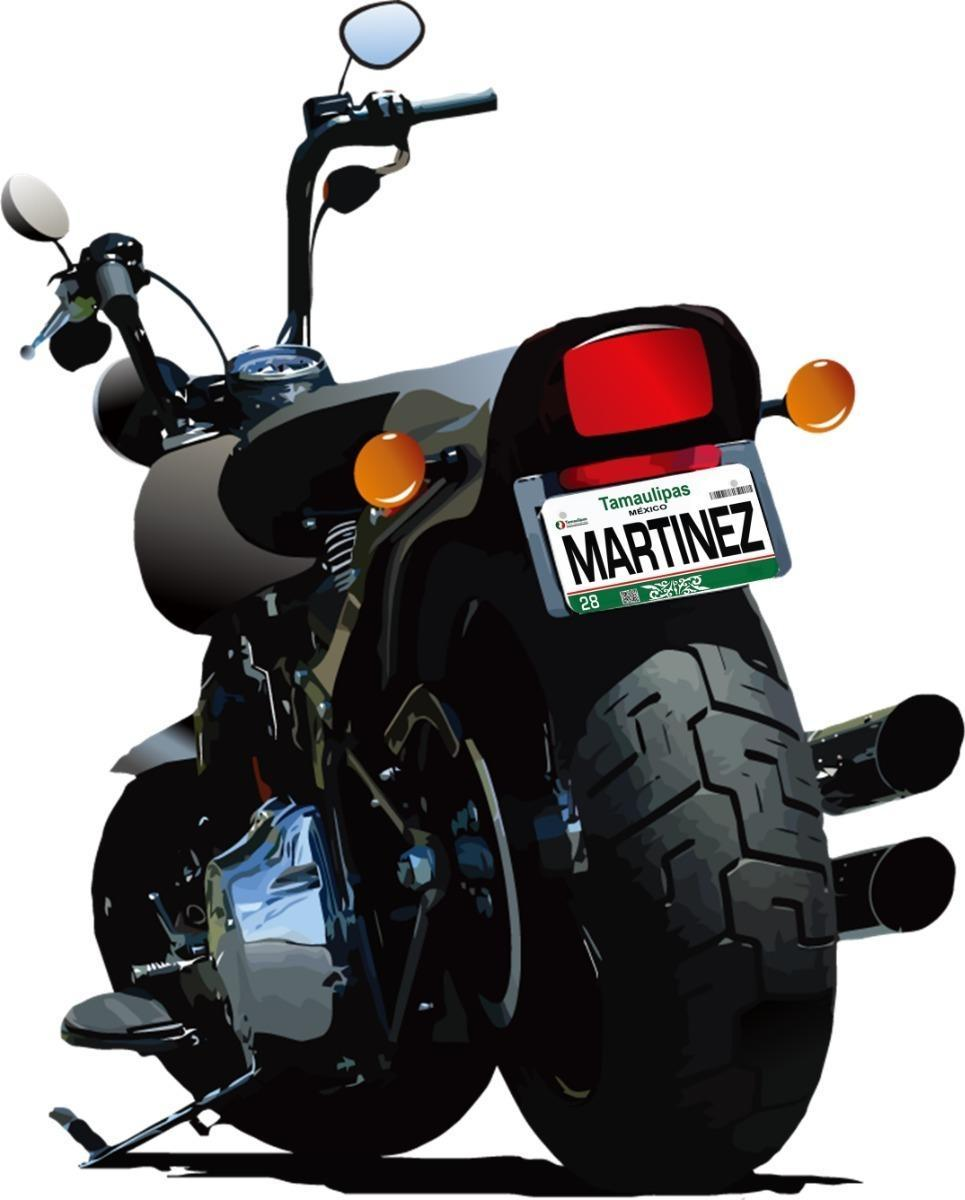placa de veiculo: (495, 425, 811, 639)
